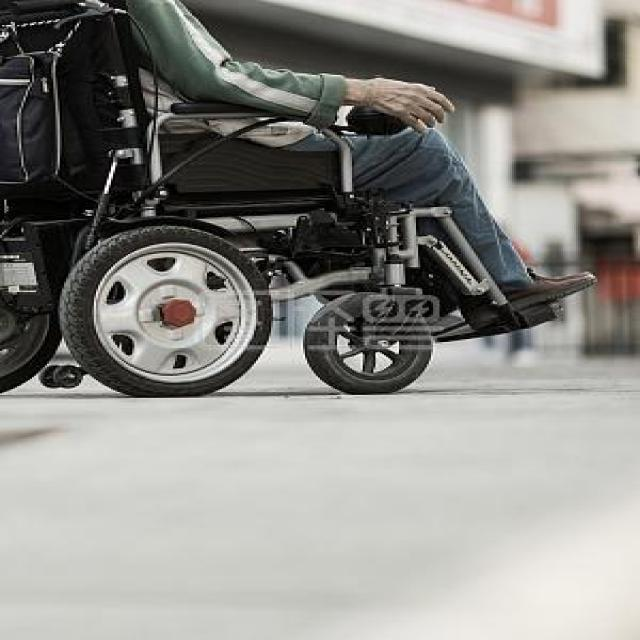wheelchairs: (0, 0, 587, 401)
